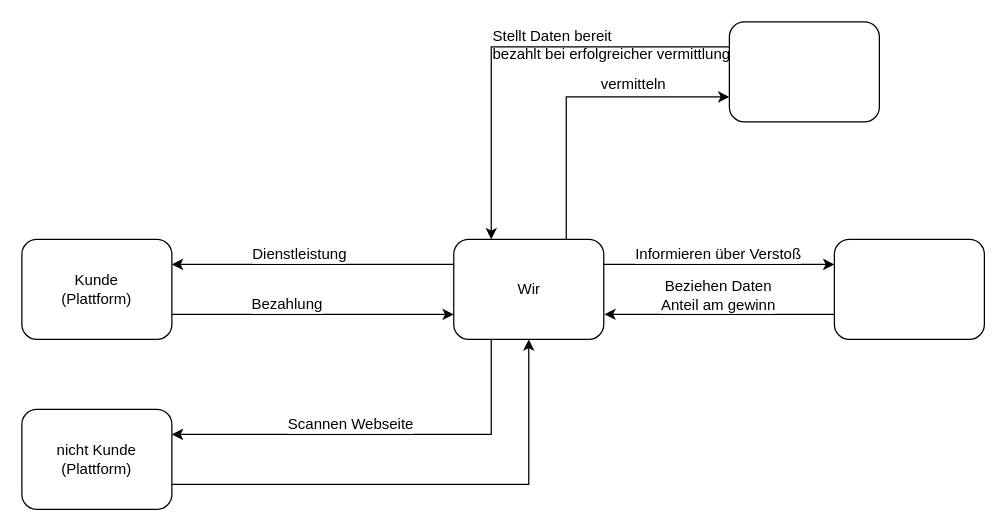
The diagram is 1006 pixels wide and 531 high, and some of its shapes have lost their labels. Here are the shapes that lost their labels. From the top down, the box of each, then its label:
(728, 21, 879, 122): Kunde (Privat Urheber)
(833, 238, 984, 339): Autorengesellschaften (GEMA)
